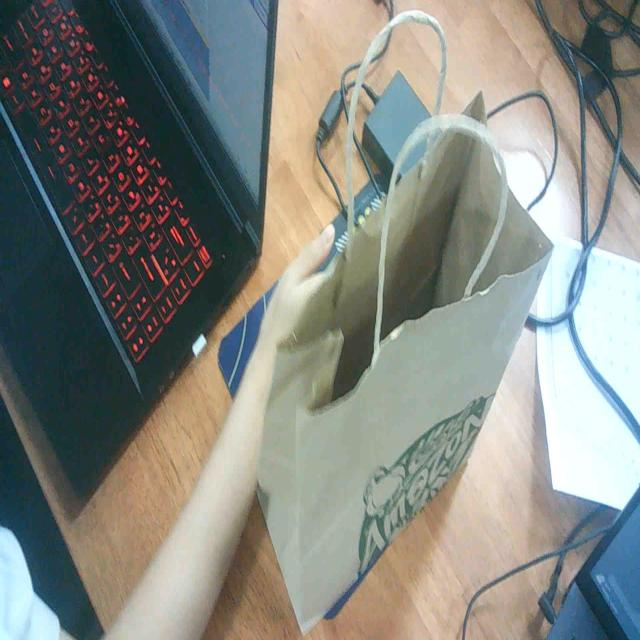bag: (260, 133, 556, 627)
